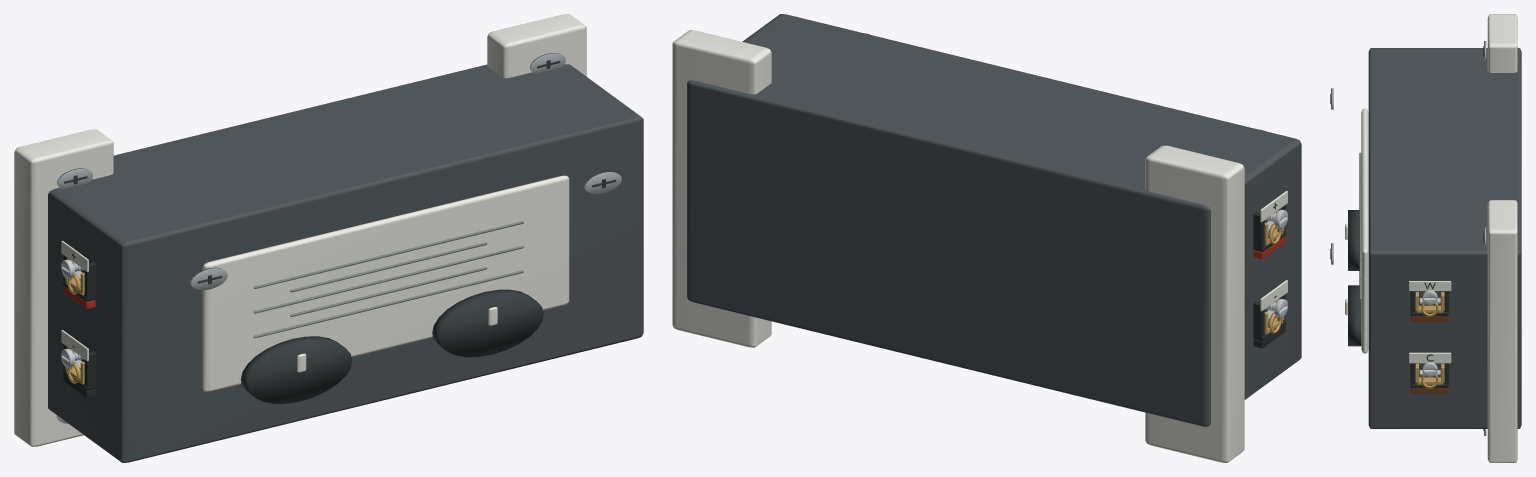
File: pwmcontrol_tunable-white.glb
3 renders of one model, left to right at view 1: azimuth 30°, elevation 25°; view 2: azimuth 150°, elevation 25°; view 3: azimuth 270°, elevation 25°, orthographic. The views are drawn at different scales.
Parts seen in each view (by area): view 1: node-4, node-3 · Original material.001, node-49, node-46, node-3 · Original material.004, node-3 · Original material.002, detail:terminal-clamp:- · Detail moulded engineering polymer; view 2: node-4, node-3 · Original material.001, detail:terminal-clamp:- · Detail moulded engineering polymer; view 3: node-4, node-3 · Original material.001, node-49, node-46, Moulded terminal legend pad.003, Moulded terminal legend pad.002, node-3 · Original material.004, detail:terminal-clamp:C · Detail machined brass, detail:terminal-clamp:W · Detail machined brass, detail:terminal-clamp:C · Detail moulded engineering polymer, detail:terminal-clamp:W · Detail moulded engineering polymer, node-3 · Original material.002 (+4 smaller).
Part boxes in pixels (bbox=[...]): node-4: bbox=[48, 64, 643, 462]; node-3 · Original material.001: bbox=[14, 14, 586, 446]; node-49: bbox=[431, 289, 543, 357]; node-46: bbox=[240, 336, 352, 403]; node-3 · Original material.004: bbox=[253, 221, 523, 337]; node-3 · Original material.002: bbox=[56, 53, 621, 423]; detail:terminal-clamp:- · Detail moulded engineering polymer: bbox=[63, 335, 95, 398]; node-4: bbox=[687, 14, 1301, 426]; node-3 · Original material.001: bbox=[672, 30, 1244, 462]; detail:terminal-clamp:- · Detail moulded engineering polymer: bbox=[1253, 286, 1286, 348]; node-4: bbox=[1368, 48, 1521, 428]; node-3 · Original material.001: bbox=[1361, 14, 1517, 462]; node-49: bbox=[1348, 285, 1361, 346]; node-46: bbox=[1348, 210, 1359, 270]; Moulded terminal legend pad.003: bbox=[1409, 352, 1451, 363]; Moulded terminal legend pad.002: bbox=[1409, 281, 1451, 291]; node-3 · Original material.004: bbox=[1359, 152, 1361, 299]; detail:terminal-clamp:C · Detail machined brass: bbox=[1415, 363, 1444, 388]; detail:terminal-clamp:W · Detail machined brass: bbox=[1415, 292, 1444, 316]; detail:terminal-clamp:C · Detail moulded engineering polymer: bbox=[1410, 363, 1449, 388]; detail:terminal-clamp:W · Detail moulded engineering polymer: bbox=[1410, 291, 1449, 316]; node-3 · Original material.002: bbox=[1331, 41, 1486, 435].
Size of the model in its own units: 1.14 by 0.564 by 0.4194.
